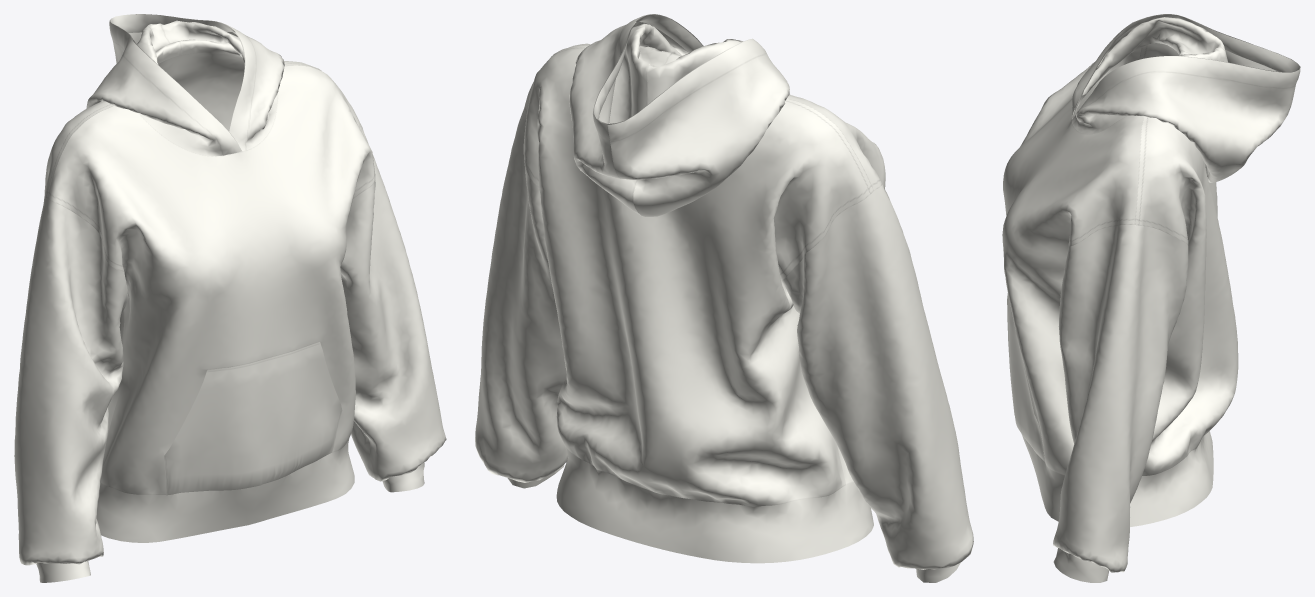
Rendered from Hoodie.obj.
3 renders of one model, left to right at view 1: azimuth 30°, elevation 25°; view 2: azimuth 150°, elevation 25°; view 3: azimuth 270°, elevation 25°, orthographic. The views are drawn at different scales.
Visible parts, largest first — view 1: Garment; view 2: Garment; view 3: Garment.
Part boxes in pixels (x1=…): Garment: x1=14, y1=14, x2=446, y2=582; Garment: x1=475, y1=14, x2=973, y2=582; Garment: x1=1002, y1=14, x2=1300, y2=582.
Bounding box in the file's own units: 615 × 653 × 379.
1 material, 1 textured.
